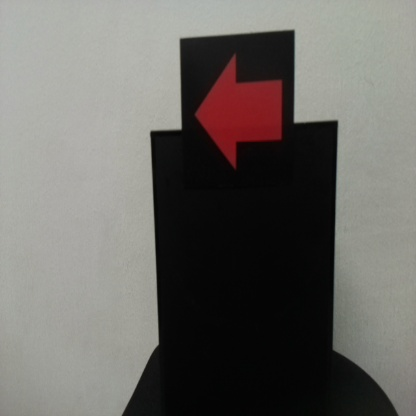id_4: (180, 37, 296, 192)
